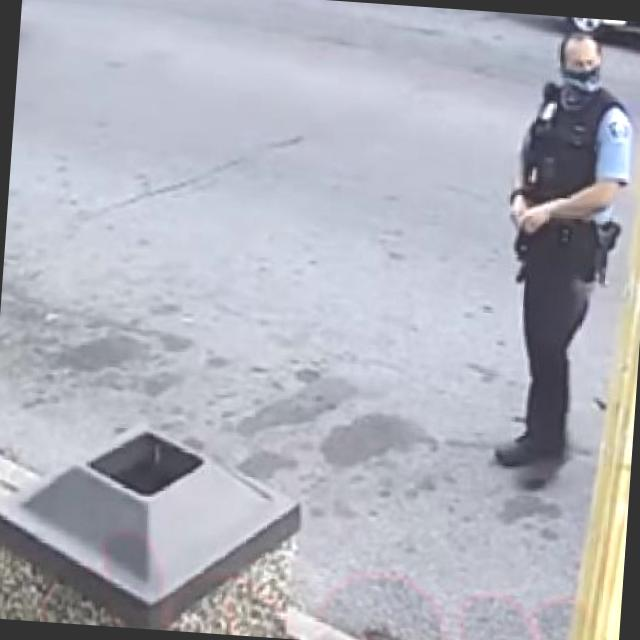Person: (494, 21, 640, 515)
